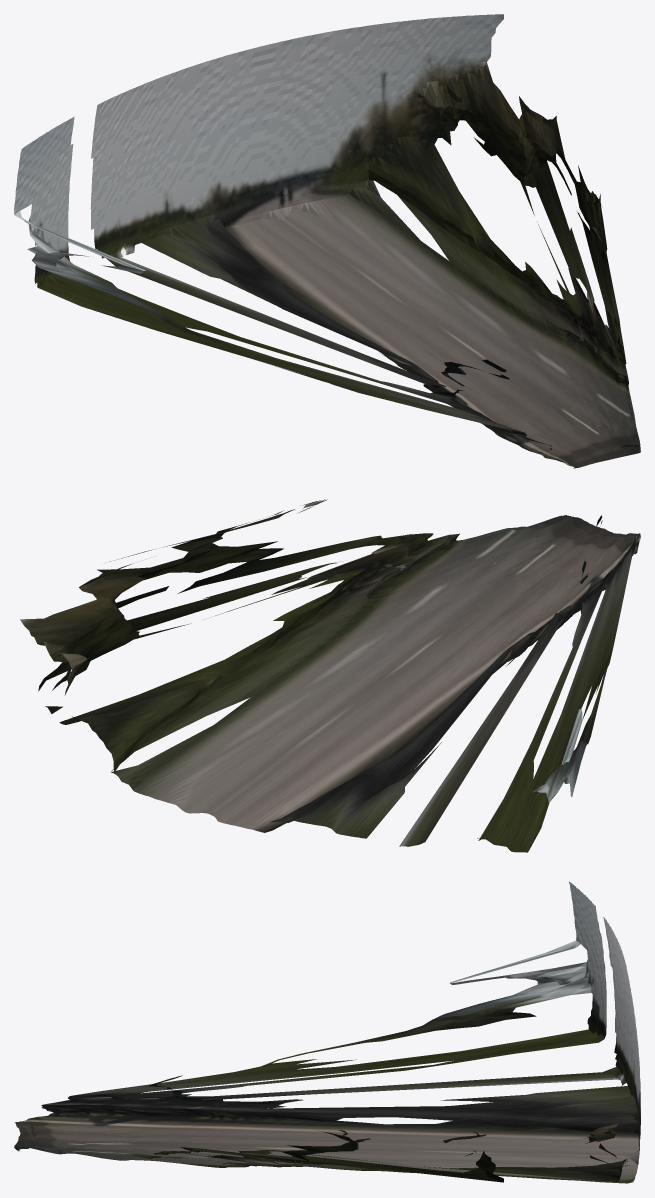
The picture shows the model from 3 angles, top to bottom: view 1: azimuth 30°, elevation 25°; view 2: azimuth 150°, elevation 25°; view 3: azimuth 270°, elevation 25°; orthographic projection. The views are drawn at different scales.
Parts seen in each view (by area): view 1: defaultobject; view 2: defaultobject; view 3: defaultobject.
Part boxes in pixels (<box>): defaultobject: <box>14,14,640,468</box>; defaultobject: <box>20,499,640,852</box>; defaultobject: <box>14,881,640,1183</box>.
Size of the model in its own units: 36.53 by 12.64 by 44.67.
1 material, 1 textured.
